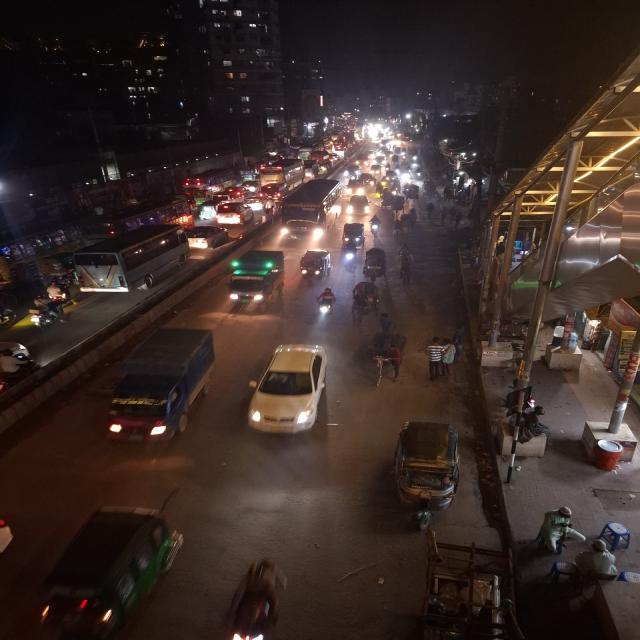bus: (71, 223, 191, 294), (277, 176, 342, 242), (91, 194, 195, 230), (258, 159, 303, 188)
car: (248, 340, 333, 438), (182, 166, 239, 192), (186, 224, 232, 252), (214, 202, 254, 226), (344, 193, 373, 220), (259, 182, 286, 200)
cng: (28, 504, 188, 638), (388, 418, 466, 535), (298, 246, 333, 284), (341, 220, 366, 252), (195, 201, 218, 222)
motorcycle: (23, 297, 62, 329), (42, 280, 74, 306), (315, 286, 337, 322), (368, 214, 383, 238)
pedestrian: (421, 331, 461, 381)
rickshaw: (366, 310, 409, 386), (350, 279, 382, 320), (362, 245, 389, 283), (383, 194, 408, 220), (402, 182, 422, 202)
truck: (99, 326, 220, 444), (224, 247, 287, 307)
